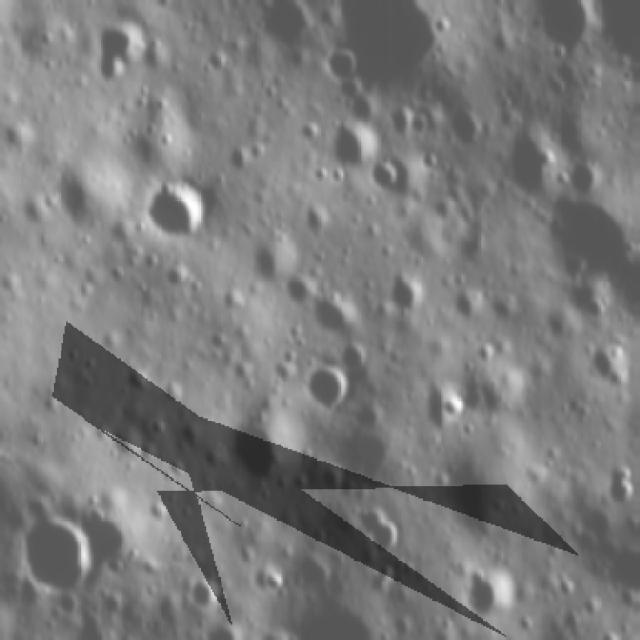crater: (19, 511, 104, 600), (231, 408, 306, 492), (496, 120, 570, 203), (144, 173, 218, 244), (531, 5, 604, 66), (96, 22, 164, 87), (328, 114, 390, 178), (460, 561, 522, 621), (306, 288, 369, 346), (351, 506, 412, 562), (256, 5, 324, 54), (246, 232, 303, 288), (584, 332, 636, 392), (302, 362, 360, 415), (450, 102, 496, 153), (384, 270, 434, 316), (564, 150, 608, 201), (319, 38, 363, 88), (181, 573, 230, 616), (448, 284, 492, 330), (372, 156, 416, 202), (263, 562, 300, 604), (438, 386, 471, 423)
